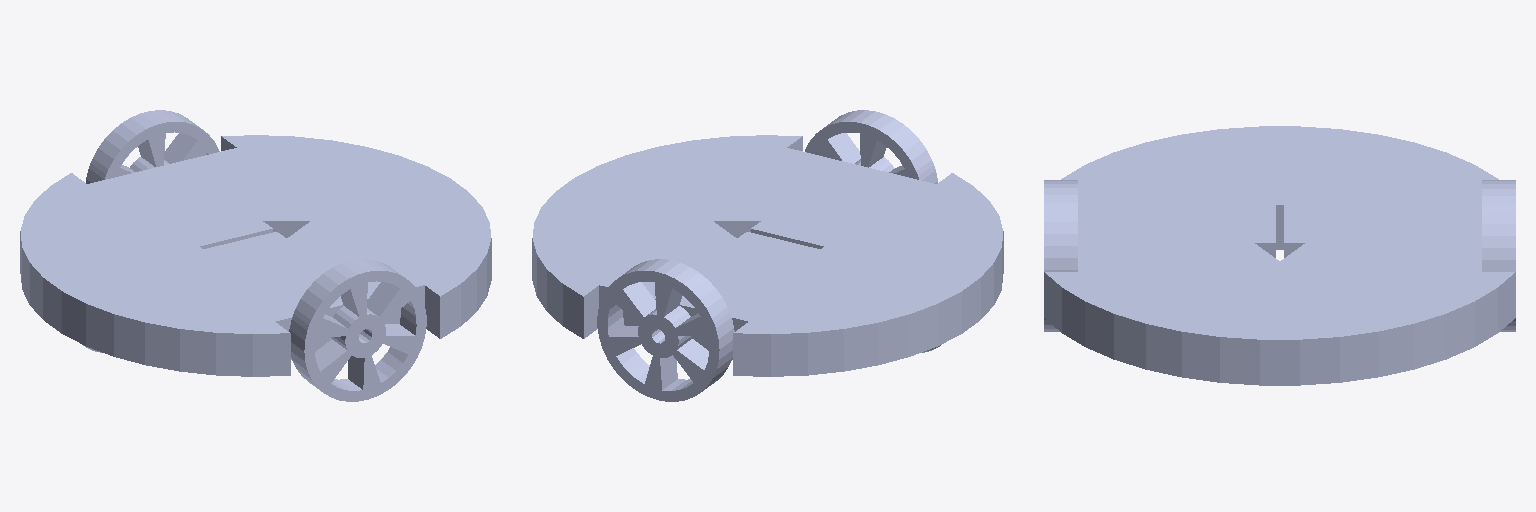
URDF robot description (v1_robot):
<?xml version="1.0" encoding="utf-8"?>
<!-- This URDF was automatically created by SolidWorks to URDF Exporter! Originally created by [author] ([email redacted]) 
     Commit Version: 1.6.0-1-g15f4949  Build Version: 1.6.7594.29634
     For more information, please see http://wiki.ros.org/sw_urdf_exporter -->
<robot
  name="v1_robot">
  <link
    name="base_link">
    <inertial>
      <origin
        xyz="0.0018381 -6.0699E-18 0.015098"
        rpy="0 0 0" />
      <mass
        value="3" />
      <inertia
        ixx="0.0087992"
        ixy="-4.5715E-19"
        ixz="2.0587E-05"
        iyy="0.011492"
        iyz="5.1789E-19"
        izz="0.020008" />
    </inertial>
    <visual>
      <origin
        xyz="0 0 0"
        rpy="0 0 0" />
      <geometry>
        <mesh
          filename="package://v1_robot/meshes/base_link.STL" />
      </geometry>
      <material
        name="">
        <color
          rgba="0.79216 0.81961 0.93333 1" />
      </material>
    </visual>
    <collision>
      <origin
        xyz="0 0 0"
        rpy="0 0 0" />
      <geometry>
        <mesh
          filename="package://v1_robot/meshes/base_link.STL" />
      </geometry>
    </collision>
  </link>
  <link
    name="R_link">
    <inertial>
      <origin
        xyz="-0.01 -8.6736E-18 -1.3752E-10"
        rpy="0 0 0" />
      <mass
        value="1" />
      <inertia
        ixx="8.8448E-05"
        ixy="-3.0066E-21"
        ixz="5.7327E-13"
        iyy="4.6764E-05"
        iyz="8.4703E-21"
        izz="4.6764E-05" />
    </inertial>
    <visual>
      <origin
        xyz="0 0 0"
        rpy="0 0 0" />
      <geometry>
        <mesh
          filename="package://v1_robot/meshes/R_link.STL" />
      </geometry>
      <material
        name="">
        <color
          rgba="0.79216 0.81961 0.93333 1" />
      </material>
    </visual>
    <collision>
      <origin
        xyz="0 0 0"
        rpy="0 0 0" />
      <geometry>
        <mesh
          filename="package://v1_robot/meshes/R_link.STL" />
      </geometry>
    </collision>
  </link>
  <joint
    name="R_joint"
    type="continuous">
    <origin
      xyz="0 -0.11955 0.015"
      rpy="1.966 0 1.5708" />
    <parent
      link="base_link" />
    <child
      link="R_link" />
    <axis
      xyz="1 0 0" />
  </joint>
  <link
    name="L_link">
    <inertial>
      <origin
        xyz="0.01 -2.6021E-17 -2.949E-17"
        rpy="0 0 0" />
      <mass
        value="1" />
      <inertia
        ixx="8.8448E-05"
        ixy="-4.4153E-21"
        ixz="-1.1559E-21"
        iyy="4.6764E-05"
        iyz="6.7763E-21"
        izz="4.6764E-05" />
    </inertial>
    <visual>
      <origin
        xyz="0 0 0"
        rpy="0 0 0" />
      <geometry>
        <mesh
          filename="package://v1_robot/meshes/L_link.STL" />
      </geometry>
      <material
        name="">
        <color
          rgba="0.79216 0.81961 0.93333 1" />
      </material>
    </visual>
    <collision>
      <origin
        xyz="0 0 0"
        rpy="0 0 0" />
      <geometry>
        <mesh
          filename="package://v1_robot/meshes/L_link.STL" />
      </geometry>
    </collision>
  </link>
  <joint
    name="L_joint"
    type="continuous">
    <origin
      xyz="0 0.11955 0.015"
      rpy="1.9952 0 1.5708" />
    <parent
      link="base_link" />
    <child
      link="L_link" />
    <axis
      xyz="1 0 0" />
  </joint>
  <link
    name="Castor_link">
    <inertial>
      <origin
        xyz="1.3878E-17 4.5103E-17 1.3878E-17"
        rpy="0 0 0" />
      <mass
        value="1" />
      <inertia
        ixx="1.6362E-05"
        ixy="-2.1176E-22"
        ixz="6.088E-22"
        iyy="1.6362E-05"
        iyz="4.2352E-22"
        izz="1.6362E-05" />
    </inertial>
    <visual>
      <origin
        xyz="0 0 0"
        rpy="0 0 0" />
      <geometry>
        <mesh
          filename="package://v1_robot/meshes/Castor_link.STL" />
      </geometry>
      <material
        name="">
        <color
          rgba="0.79216 0.81961 0.93333 1" />
      </material>
    </visual>
    <collision>
      <origin
        xyz="0 0 0"
        rpy="0 0 0" />
      <geometry>
        <mesh
          filename="package://v1_robot/meshes/Castor_link.STL" />
      </geometry>
    </collision>
  </link>
  <joint
    name="Castor_joint"
    type="continuous">
    <origin
      xyz="-0.11 0 0"
      rpy="2.7296 0.97895 -0.15447" />
    <parent
      link="base_link" />
    <child
      link="Castor_link" />
    <axis
      xyz="0.085836 0.95653 0.27871" />
    <dynamics
      damping="0"
      friction="0" />
  </joint>
</robot>

--- Facts derived from the render (not from the file) ---
The picture shows the robot from 3 angles, left to right: view 1: azimuth 30°, elevation 25°; view 2: azimuth 150°, elevation 25°; view 3: azimuth 270°, elevation 25°; orthographic projection.
Model v1_robot with 4 links and 3 joints (3 continuous), rooted at base_link, posed every joint at zero.
Visible links, largest first — view 1: base_link, R_link, L_link; view 2: base_link, L_link, R_link; view 3: base_link, R_link, L_link.
Boxes of the visible links, x1,y1,x2,y2 form: base_link: [20, 135, 491, 376]; R_link: [289, 259, 426, 401]; L_link: [86, 110, 219, 183]; base_link: [532, 135, 1003, 376]; L_link: [597, 259, 734, 401]; R_link: [805, 110, 937, 183]; base_link: [1044, 126, 1515, 385]; R_link: [1044, 180, 1077, 331]; L_link: [1482, 180, 1515, 331].
Size in the robot's own frame: 0.299 by 0.2791 by 0.09 metres.
4 mesh visuals loaded from 4 distinct referenced files (4 binary STL).